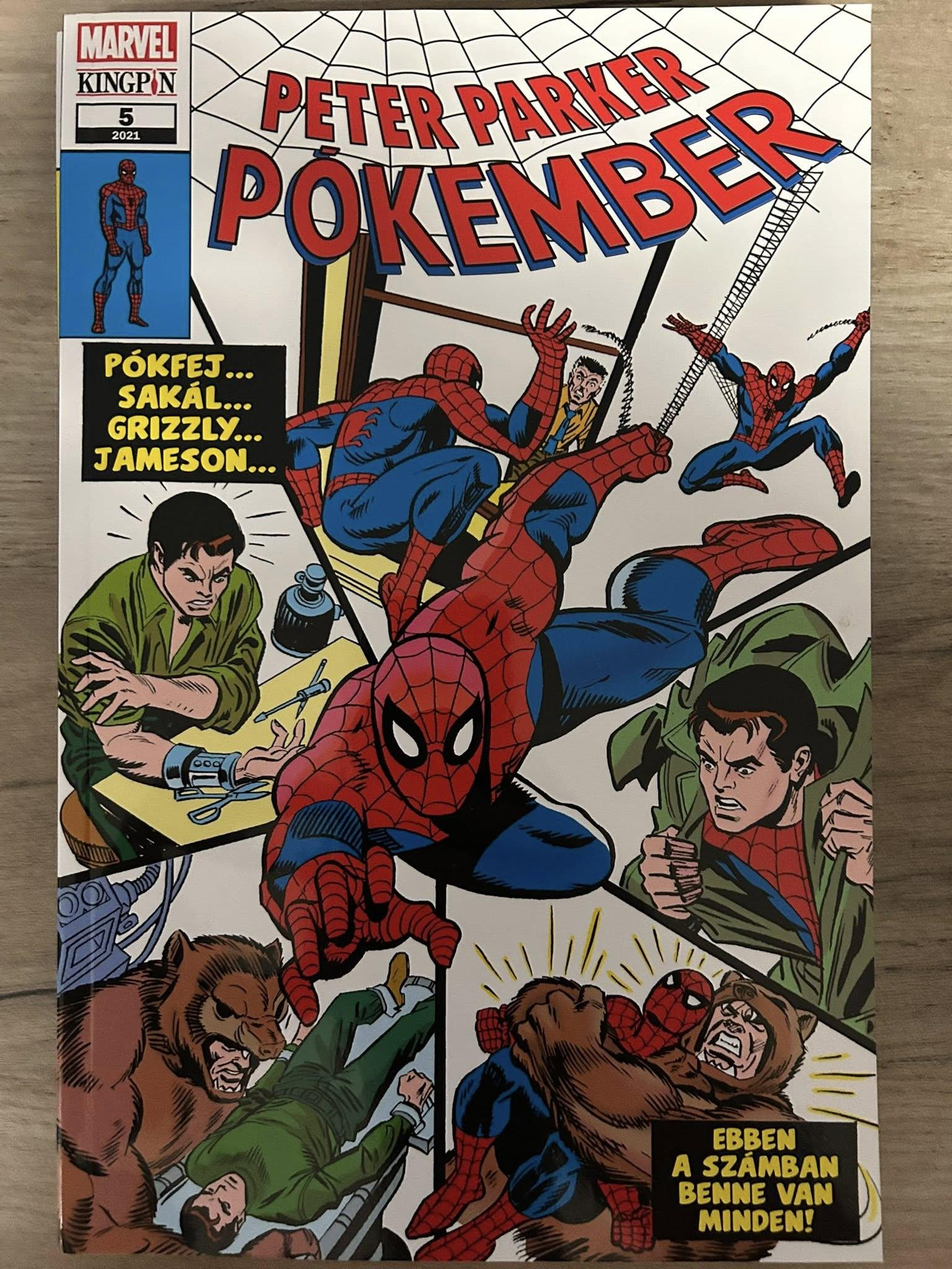comic: (50, 3, 881, 1268)
